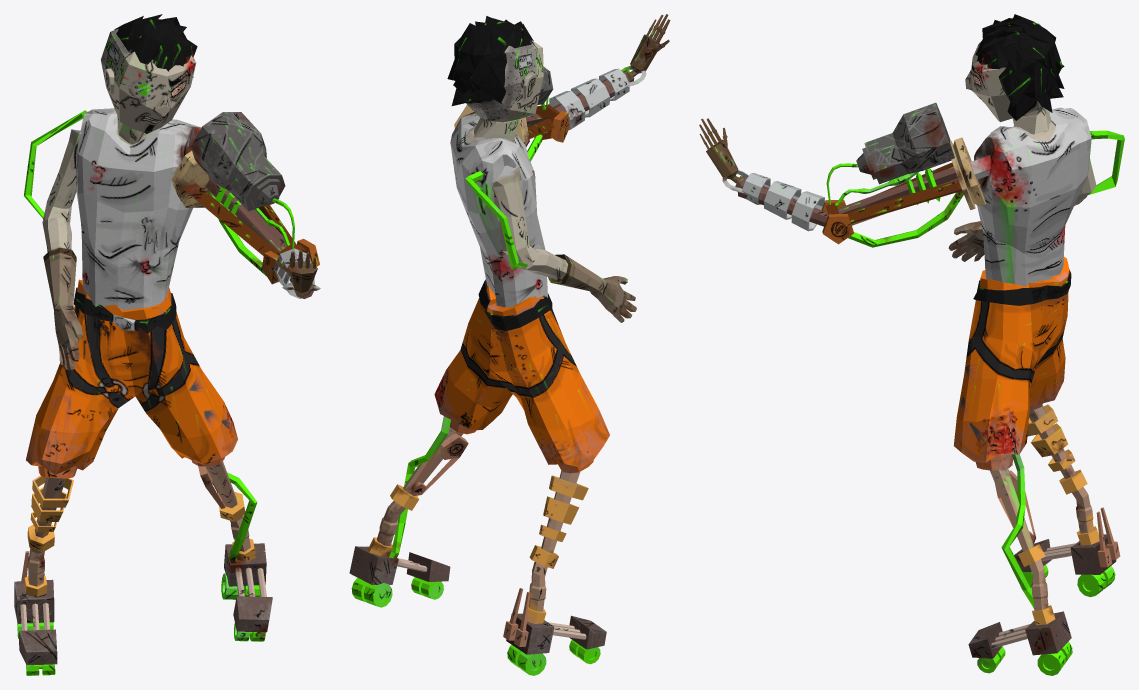
Rendered from CyborgFINALAnimation_000018.obj.
The picture shows the model from 3 angles, left to right: view 1: azimuth 30°, elevation 25°; view 2: azimuth 150°, elevation 25°; view 3: azimuth 270°, elevation 25°; orthographic projection. The views are drawn at different scales.
Visible parts, largest first — view 1: CyborgMesh_Cube.002; view 2: CyborgMesh_Cube.002; view 3: CyborgMesh_Cube.002.
Part boxes in pixels (x1,y1,x2,y2): CyborgMesh_Cube.002: (14,14,320,675); CyborgMesh_Cube.002: (349,14,670,675); CyborgMesh_Cube.002: (699,14,1124,675).
Bounding box in the file's own units: 3.95 × 9.53 × 6.03.
